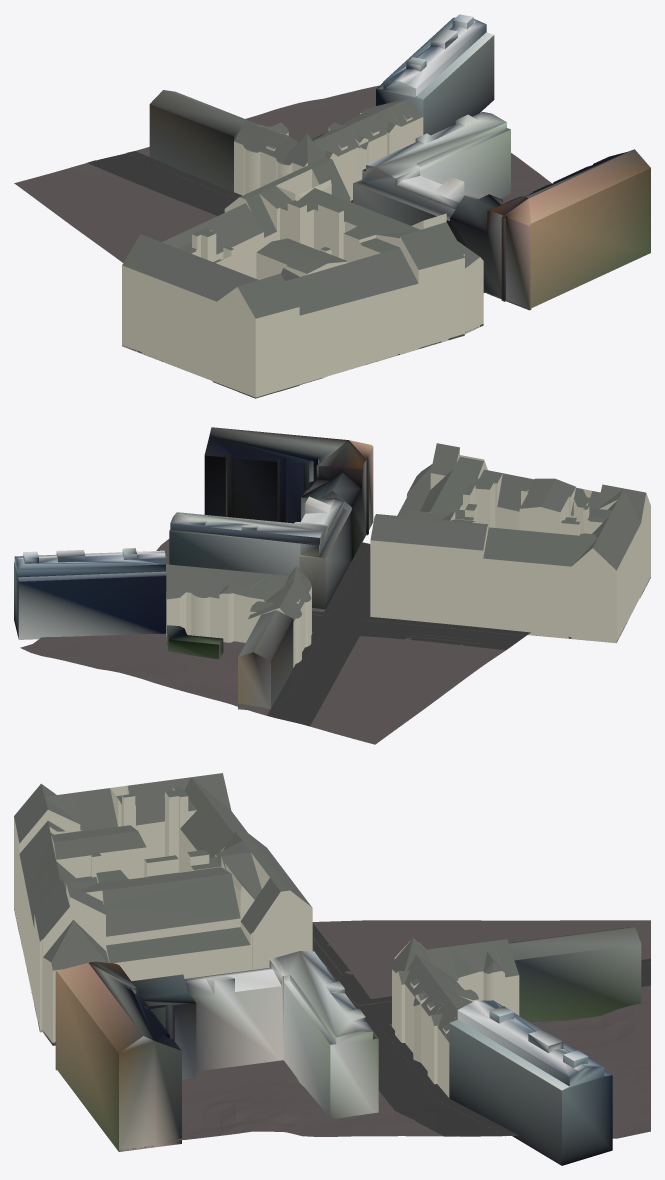
3 renders of one model, top to bottom at view 1: azimuth 30°, elevation 25°; view 2: azimuth 150°, elevation 25°; view 3: azimuth 270°, elevation 25°, orthographic. The views are drawn at different scales.
Parts seen in each view (by area): view 1: c_m08_p09; view 2: c_m08_p09; view 3: c_m08_p09.
Part boxes in pixels (x1,y1,x2,y2): c_m08_p09: (14,14,650,398); c_m08_p09: (14,427,650,744); c_m08_p09: (14,773,650,1165).
Size of the model in its own units: 169 by 35.51 by 154.
